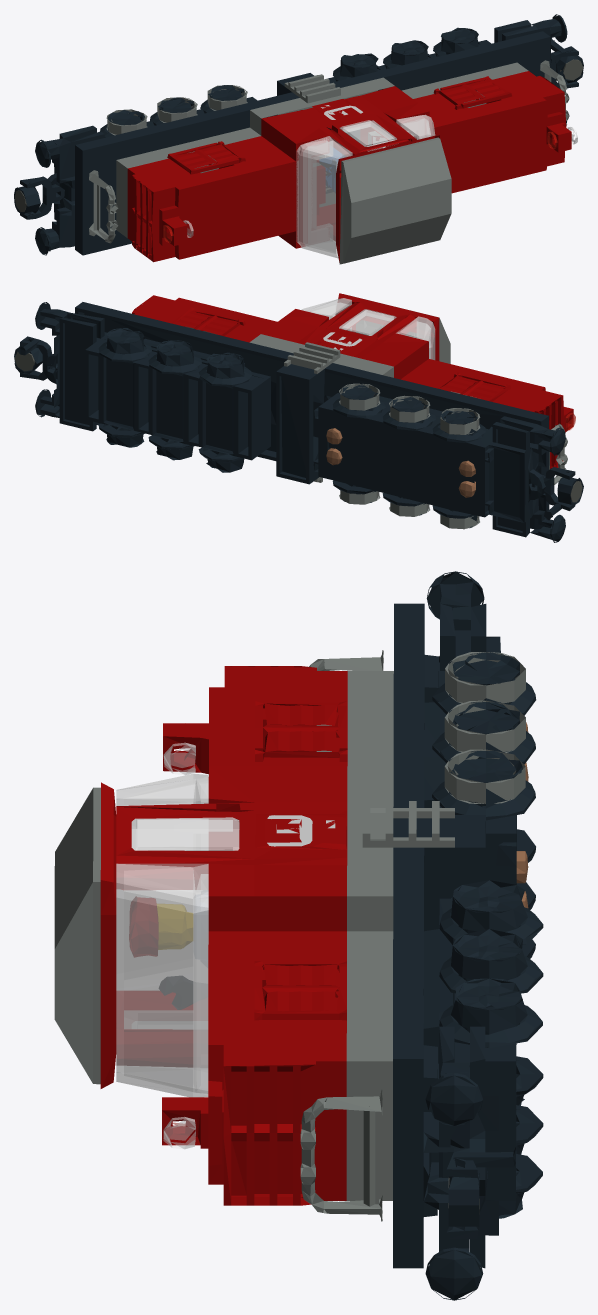
Rendered from diesel-heavy-shunting-locomotive.glb.
3 renders of one model, top to bottom at view 1: azimuth 30°, elevation 25°; view 2: azimuth 150°, elevation 25°; view 3: azimuth 270°, elevation 25°, orthographic. The views are drawn at different scales.
Size of the model in its own units: 268 by 54.4 by 102.
